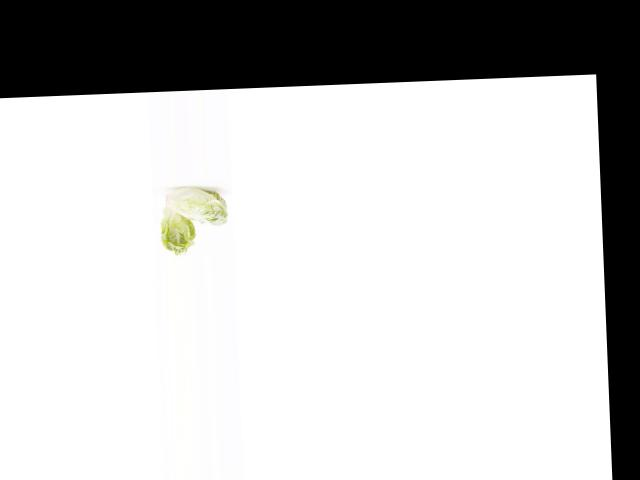lettuce: (160, 183, 232, 232)
